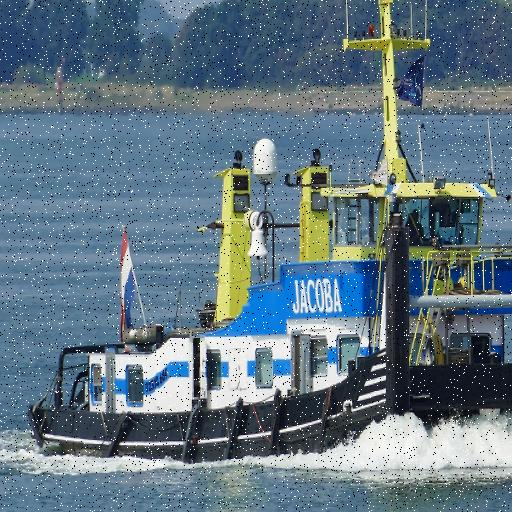tugboat: (25, 1, 512, 476)
